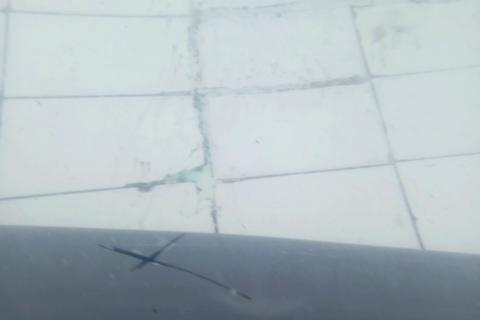keretakan: (98, 233, 253, 302)
